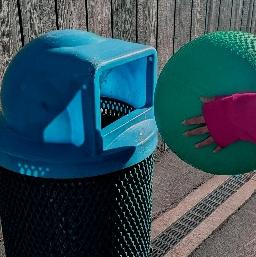algae: (152, 28, 256, 169)
